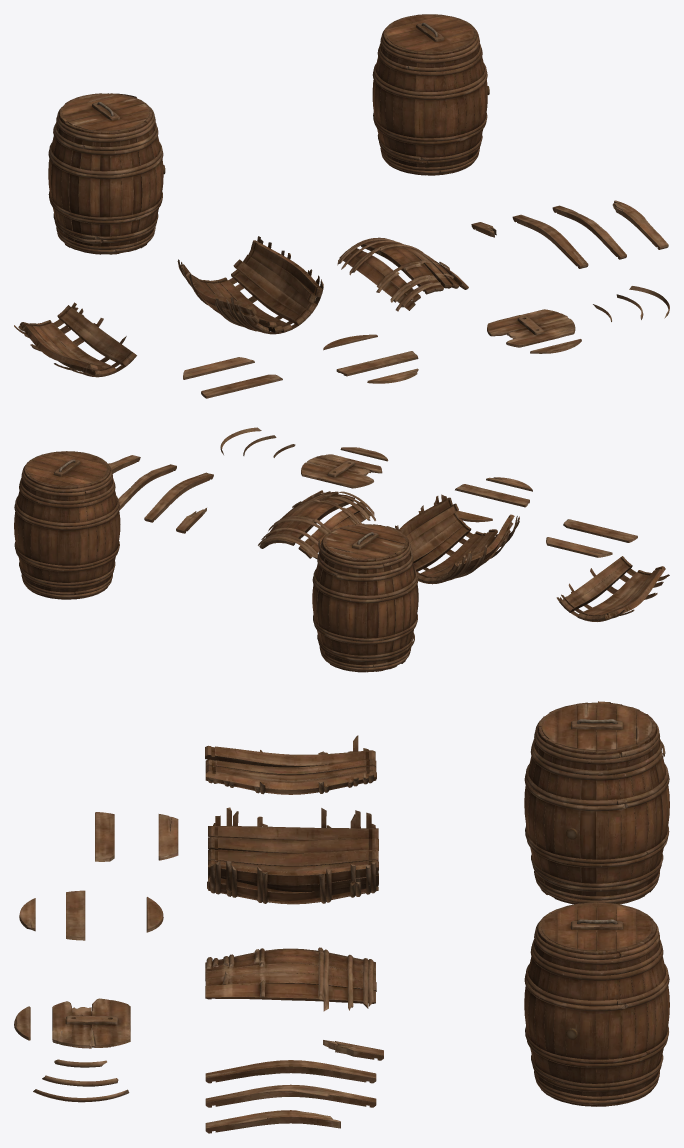
File: wooden_barrels_01.glb
The picture shows the model from 3 angles, top to bottom: view 1: azimuth 30°, elevation 25°; view 2: azimuth 150°, elevation 25°; view 3: azimuth 270°, elevation 25°; orthographic projection. The views are drawn at different scales.
Parts seen in each view (by area): view 1: wooden_barrels_01_piece01, wooden_barrels_01_barrel02, wooden_barrels_01_barrel01; view 2: wooden_barrels_01_piece01, wooden_barrels_01_barrel02, wooden_barrels_01_barrel01; view 3: wooden_barrels_01_piece01, wooden_barrels_01_barrel01, wooden_barrels_01_barrel02.
Boxes of the visible parts, box(x1,y1,x2,y2) form: wooden_barrels_01_piece01: box(14, 200, 669, 398); wooden_barrels_01_barrel02: box(48, 93, 165, 254); wooden_barrels_01_barrel01: box(372, 14, 489, 175); wooden_barrels_01_piece01: box(108, 427, 669, 621); wooden_barrels_01_barrel02: box(312, 523, 418, 672); wooden_barrels_01_barrel01: box(14, 451, 120, 599); wooden_barrels_01_piece01: box(14, 735, 383, 1133); wooden_barrels_01_barrel01: box(524, 902, 669, 1106); wooden_barrels_01_barrel02: box(524, 701, 669, 904).
Size of the model in its own units: 4.44 by 0.9568 by 3.34.
3 materials, 3 textured.
